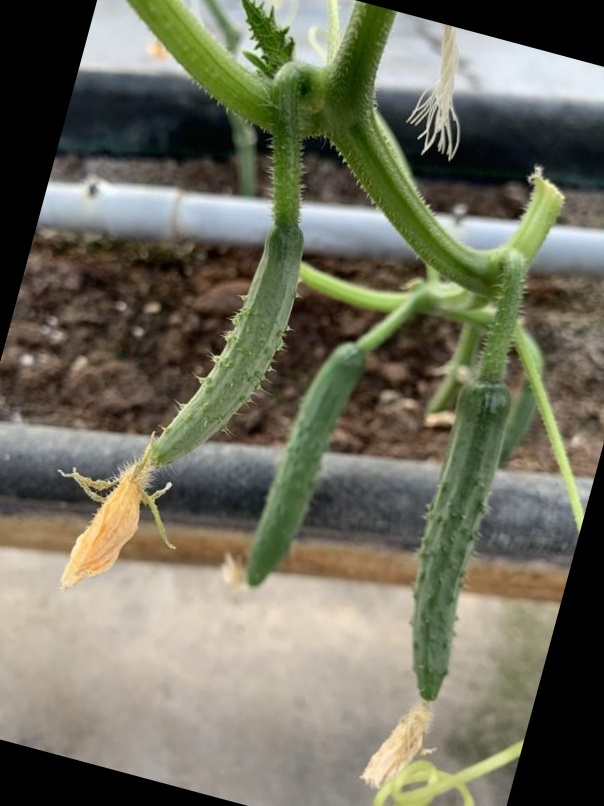bear: (51, 216, 316, 600)
growth: (56, 216, 315, 571), (384, 378, 521, 730), (235, 341, 371, 592)
